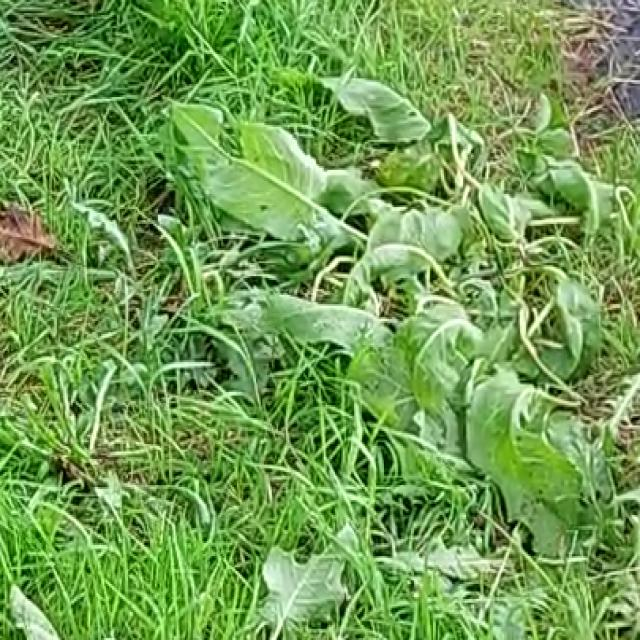organic waste: (193, 79, 627, 454)
